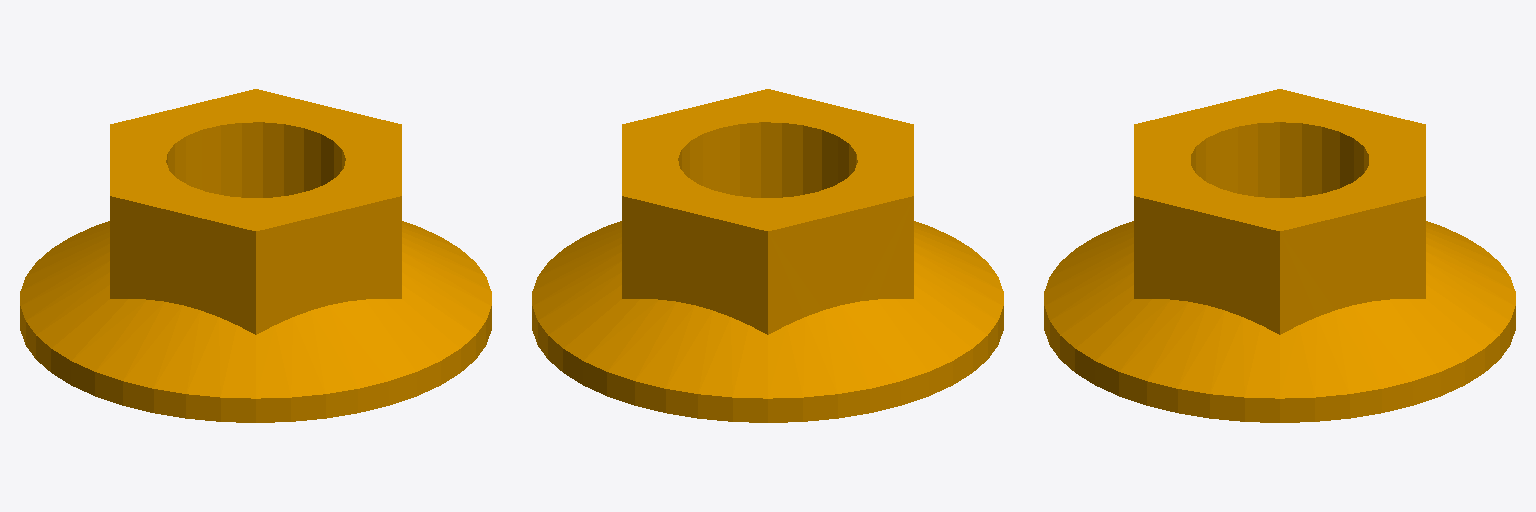
robot.urdf — T-NUT-M8:
<?xml version="1.0"?>
<robot name="T-NUT-M8">
  <link name="T-NUT-M8">
    <inertial>
      <mass value="1"/>
      <inertia ixx="1.0" ixy="0.0" ixz="0.0" iyy="1.0" iyz="0.0" izz="1.0"/>
    </inertial>
    <visual>
      <!-- <origin rpy="0 3.14159 0" xyz="0 0 0"/> -->
      <origin xyz="0.0 0.0 0.0"/>
      <geometry>
        <mesh filename="../mesh/factory_nut_bolt/T-NUT-M8.obj" scale="0.003 0.003 0.003"/>
      </geometry>
    </visual>
    <collision>
      <origin xyz="0.0 0.0 0.0"/>
      <geometry>
        <mesh filename="../mesh/factory_nut_bolt/T-NUT-M8.obj" scale="0.003 0.003 0.003"/>
      </geometry>
      <sdf resolution="256"/>
    </collision>
  </link>
</robot>

--- Render facts (derived) ---
The picture shows the robot from 3 angles, left to right: view 1: azimuth 30°, elevation 25°; view 2: azimuth 150°, elevation 25°; view 3: azimuth 270°, elevation 25°; orthographic projection.
Model T-NUT-M8 with 1 links and 0 joints (none), rooted at T-NUT-M8, posed every joint at zero.
Visible links, largest first — view 1: T-NUT-M8; view 2: T-NUT-M8; view 3: T-NUT-M8.
Link boxes in pixels (x1,y1,x2,y2): T-NUT-M8: [20, 89, 491, 422]; T-NUT-M8: [532, 89, 1003, 422]; T-NUT-M8: [1044, 89, 1515, 422].
Size in the robot's own frame: 0.063 by 0.0628 by 0.024 metres.
1 mesh visuals loaded from 1 distinct referenced files (1 OBJ).